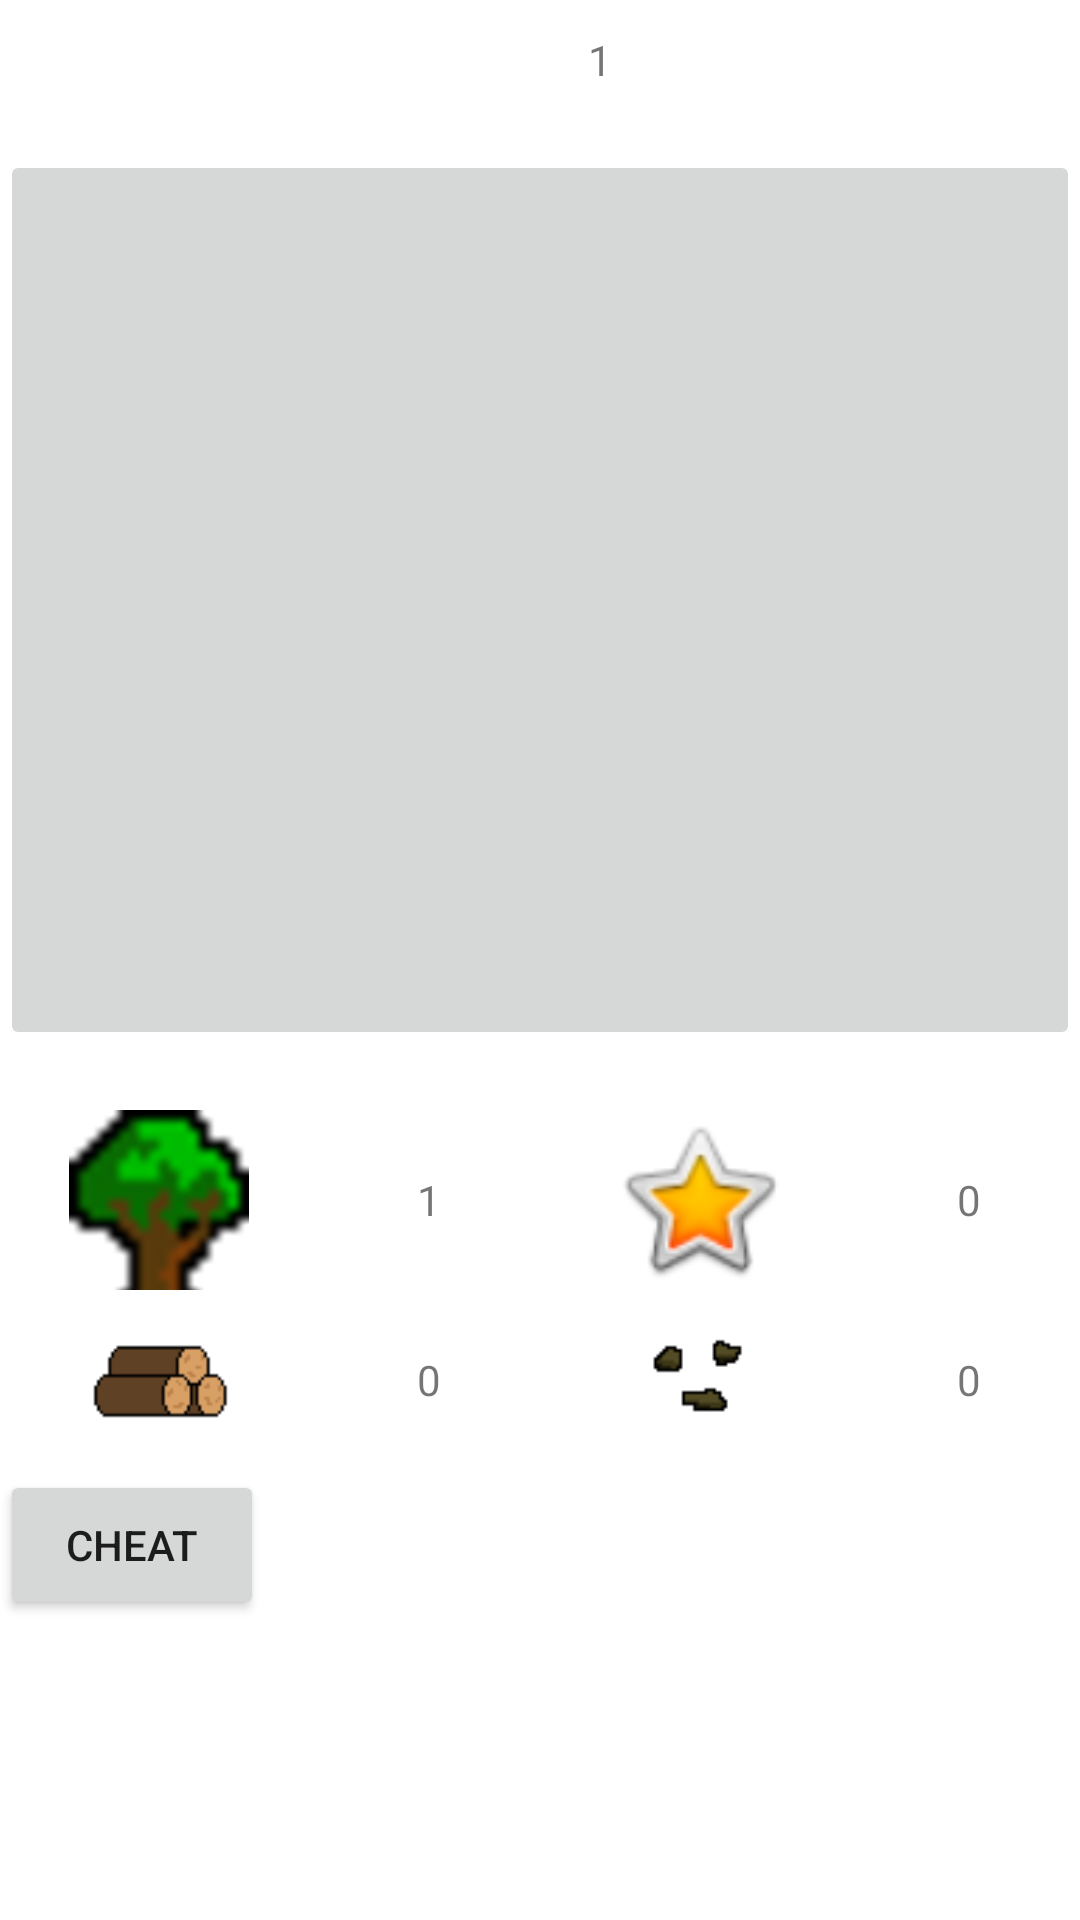

Where icons sit on this 1080*1920 app screen, as bbox=[x1, y1, x2, y2]:
logs: bbox=[93, 1345, 228, 1418]
magicseed: bbox=[653, 1339, 742, 1412]
star on: bbox=[625, 1128, 776, 1275]
woodcutting: bbox=[69, 1110, 249, 1290]
